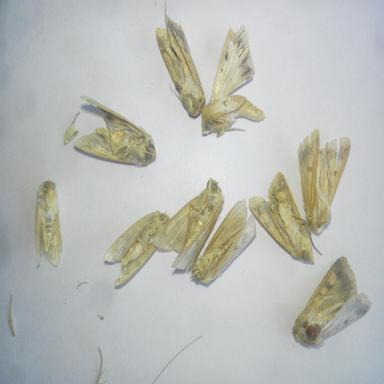abw: (199, 19, 271, 140), (290, 252, 374, 352), (148, 174, 228, 274), (290, 123, 355, 239), (245, 170, 319, 270), (188, 194, 265, 290), (70, 92, 159, 172), (98, 200, 174, 291), (152, 1, 208, 119), (28, 176, 69, 269)
